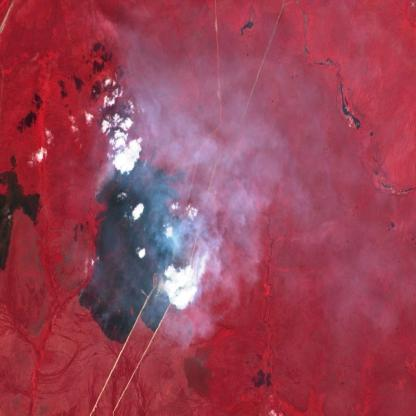fire: (75, 138, 185, 346)
